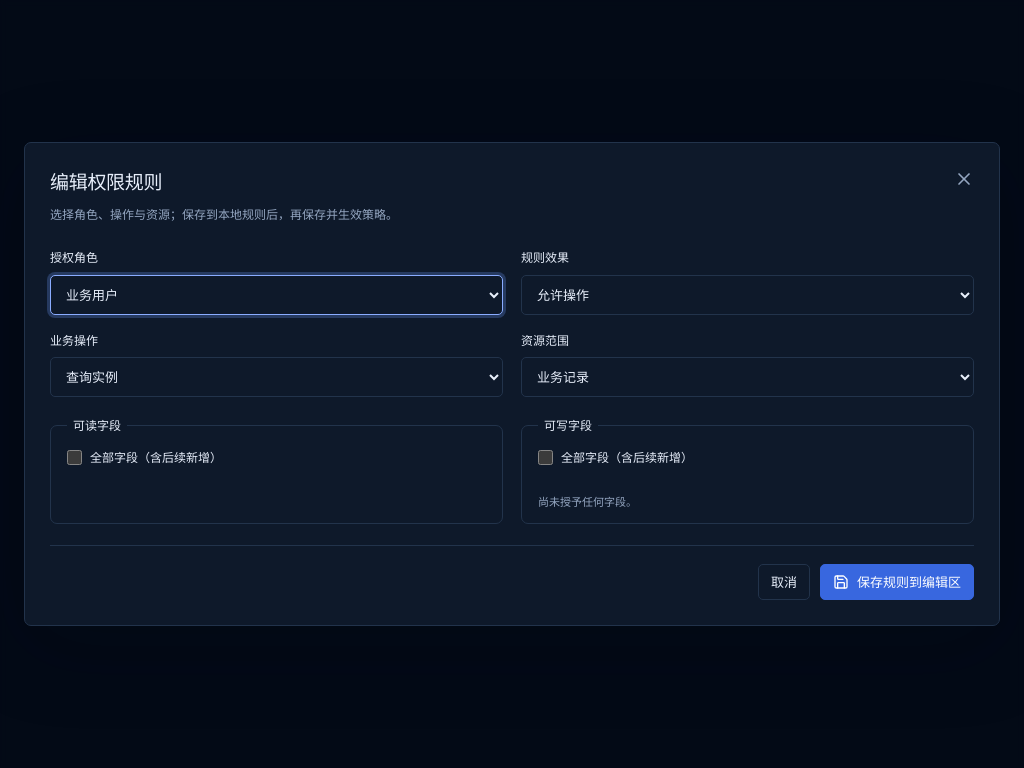
Test: 权限上下文编辑 › 目标字段全部被移除后禁止保存已有条件，避免变成无条件允许
Click the button "保存规则到编辑区" at (897, 582), box [820, 564, 974, 600]
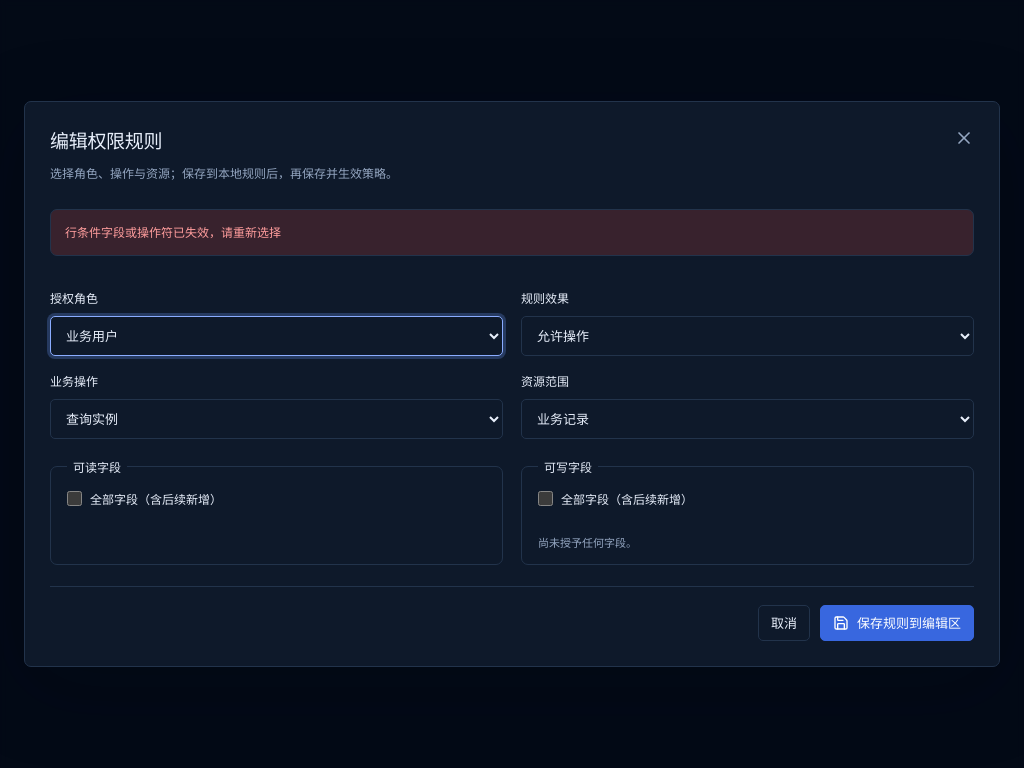
Now the message shows "行条件字段或操作符已失效", box [65, 224, 281, 241]
